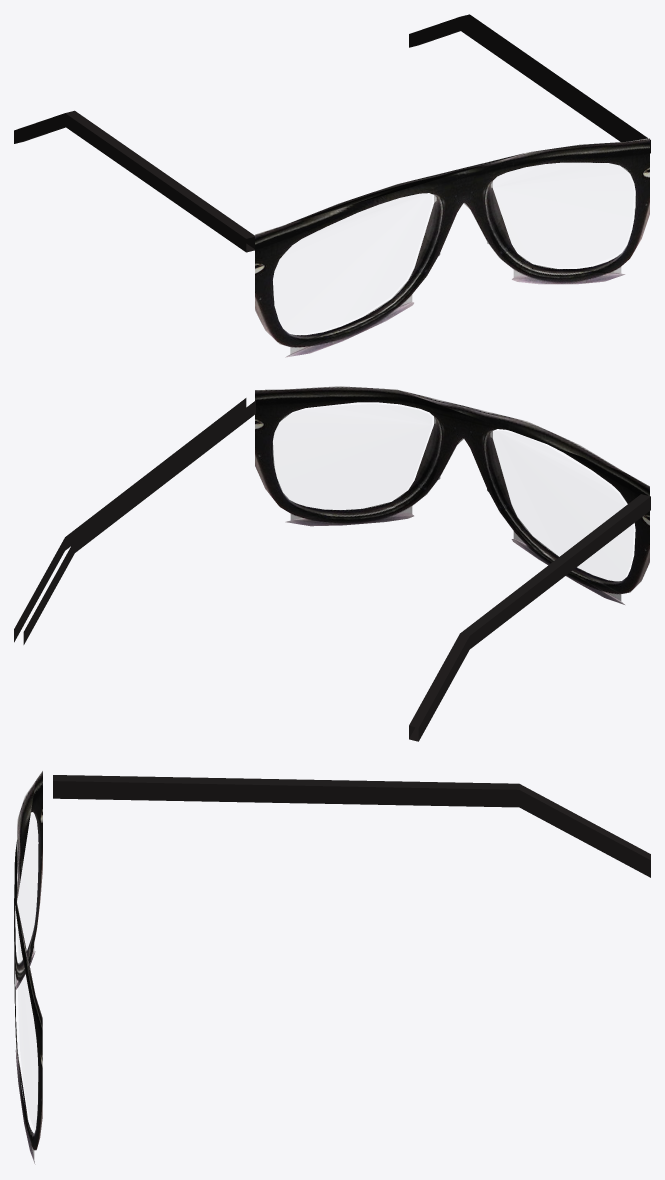
The model's file is gothamstyle-148-jr_black.glb.
3 views of the same model, one above another, from view 1: azimuth 30°, elevation 25°; view 2: azimuth 150°, elevation 25°; view 3: azimuth 270°, elevation 25° (orthographic). The views are drawn at different scales.
Visible parts, largest first — view 1: frame_front, temple_viewer_left, temple_viewer_right; view 2: frame_front, temple_viewer_left, temple_viewer_right; view 3: temple_viewer_left, frame_front.
Boxes of the visible parts, box(x1,y1,x2,y2) form: frame_front: box(255, 138, 649, 357); temple_viewer_left: box(14, 110, 254, 252); temple_viewer_right: box(409, 14, 650, 153); frame_front: box(255, 386, 649, 604); temple_viewer_left: box(409, 494, 650, 741); temple_viewer_right: box(14, 398, 255, 644); temple_viewer_left: box(53, 775, 650, 877); frame_front: box(14, 771, 42, 1164).
Bounding box in the file's own units: 0.1237 × 0.0447 × 0.131.
Materials: 3 (2 with a texture image).
